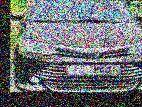car: (13, 0, 142, 93)
